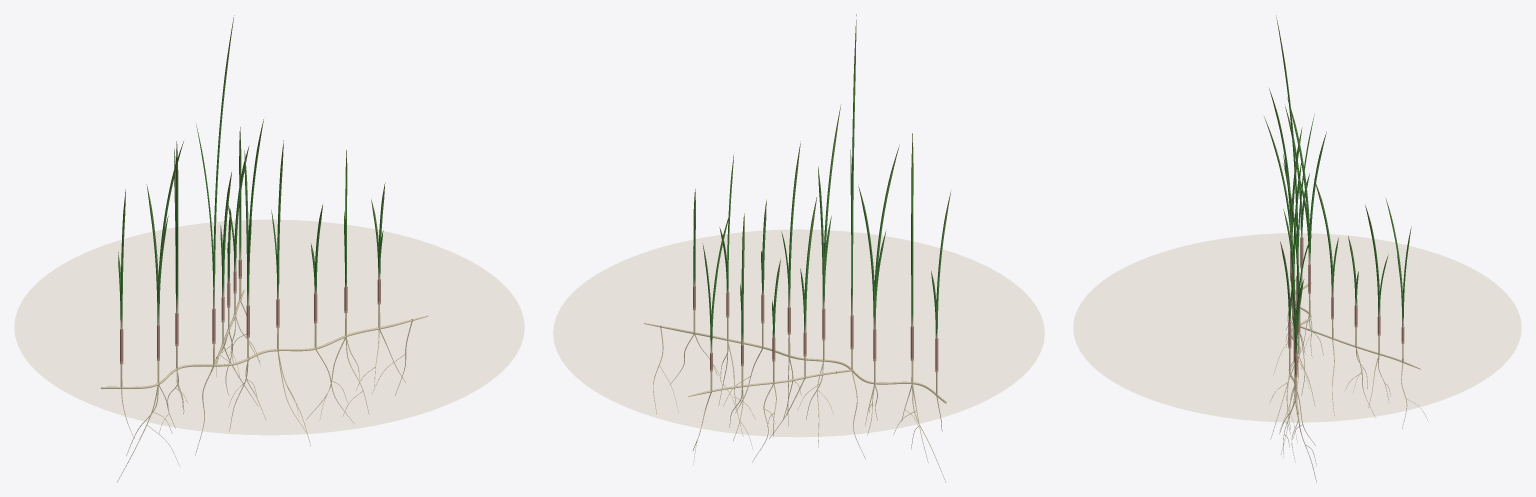
File: syringodium-isoetifolium.glb
3 renders of one model, left to right at view 1: azimuth 30°, elevation 25°; view 2: azimuth 150°, elevation 25°; view 3: azimuth 270°, elevation 25°, orthographic. The views are drawn at different scales.
Parts seen in each view (by area): view 1: Sediment, Leaves, Roots, LeafSheaths, Rhizome, ErectStems; view 2: Sediment, Leaves, Roots, LeafSheaths, Rhizome, ErectStems; view 3: Sediment, Leaves, Roots, LeafSheaths, Rhizome.
Part boxes in pixels (bbox=[...]): Sediment: bbox=[14, 220, 524, 434]; Leaves: bbox=[118, 15, 385, 330]; Roots: bbox=[117, 301, 412, 482]; LeafSheaths: bbox=[120, 260, 380, 364]; Rhizome: bbox=[101, 289, 428, 389]; ErectStems: bbox=[120, 279, 380, 387]; Sediment: bbox=[553, 229, 1044, 436]; Leaves: bbox=[693, 14, 951, 353]; Roots: bbox=[653, 327, 946, 482]; LeafSheaths: bbox=[693, 286, 938, 372]; Rhizome: bbox=[644, 323, 946, 403]; ErectStems: bbox=[693, 310, 937, 394]; Sediment: bbox=[1073, 233, 1521, 422]; Leaves: bbox=[1264, 15, 1411, 356]; Roots: bbox=[1270, 303, 1428, 482]; LeafSheaths: bbox=[1288, 237, 1404, 377]; Rhizome: bbox=[1289, 282, 1420, 420].
Bounding box in the file's own units: 0.3593 × 0.3512 × 0.3593.
7 materials, 1 textured.
